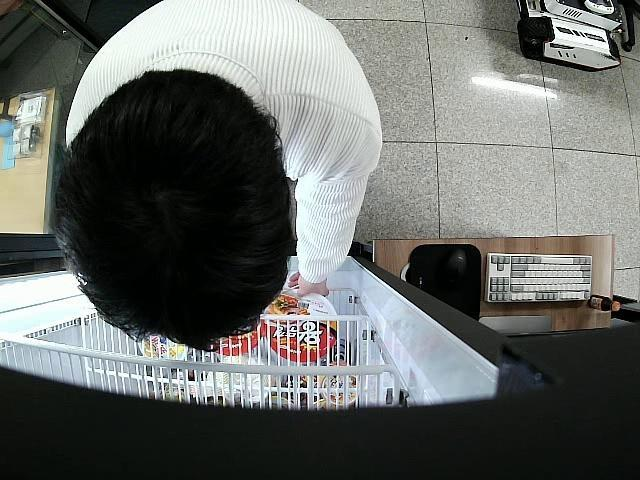10_wangTtukkeong: (264, 289, 338, 360)
